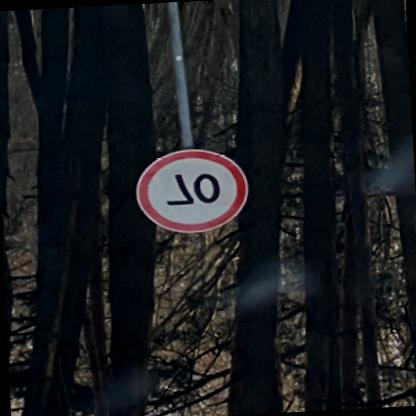speedlimit: (130, 148, 245, 236)
